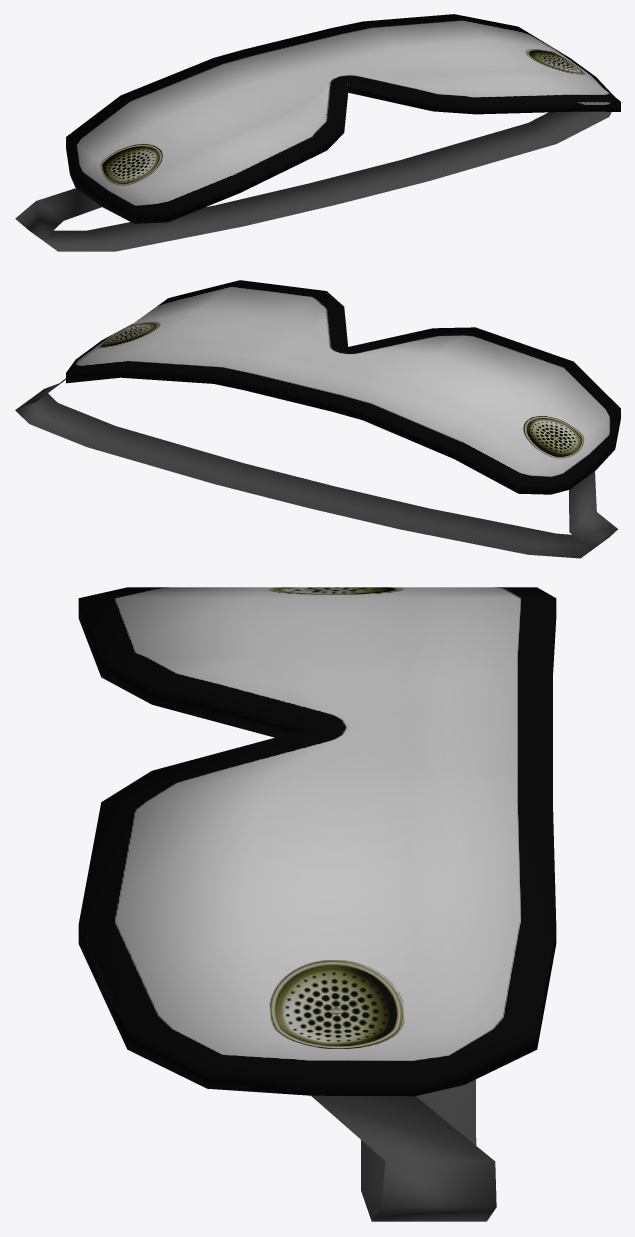
Rendered from BoogieGoggles_WorldItem.fbx.
3 renders of one model, top to bottom at view 1: azimuth 30°, elevation 25°; view 2: azimuth 150°, elevation 25°; view 3: azimuth 270°, elevation 25°, orthographic. The views are drawn at different scales.
Parts seen in each view (by area): view 1: Cube; view 2: Cube; view 3: Cube.
Part boxes in pixels (bbox=[...]): Cube: bbox=[15, 14, 620, 251]; Cube: bbox=[15, 280, 620, 558]; Cube: bbox=[78, 587, 556, 1221].
Size of the model in its own units: 0.3469 by 0.0754 by 0.1244.
